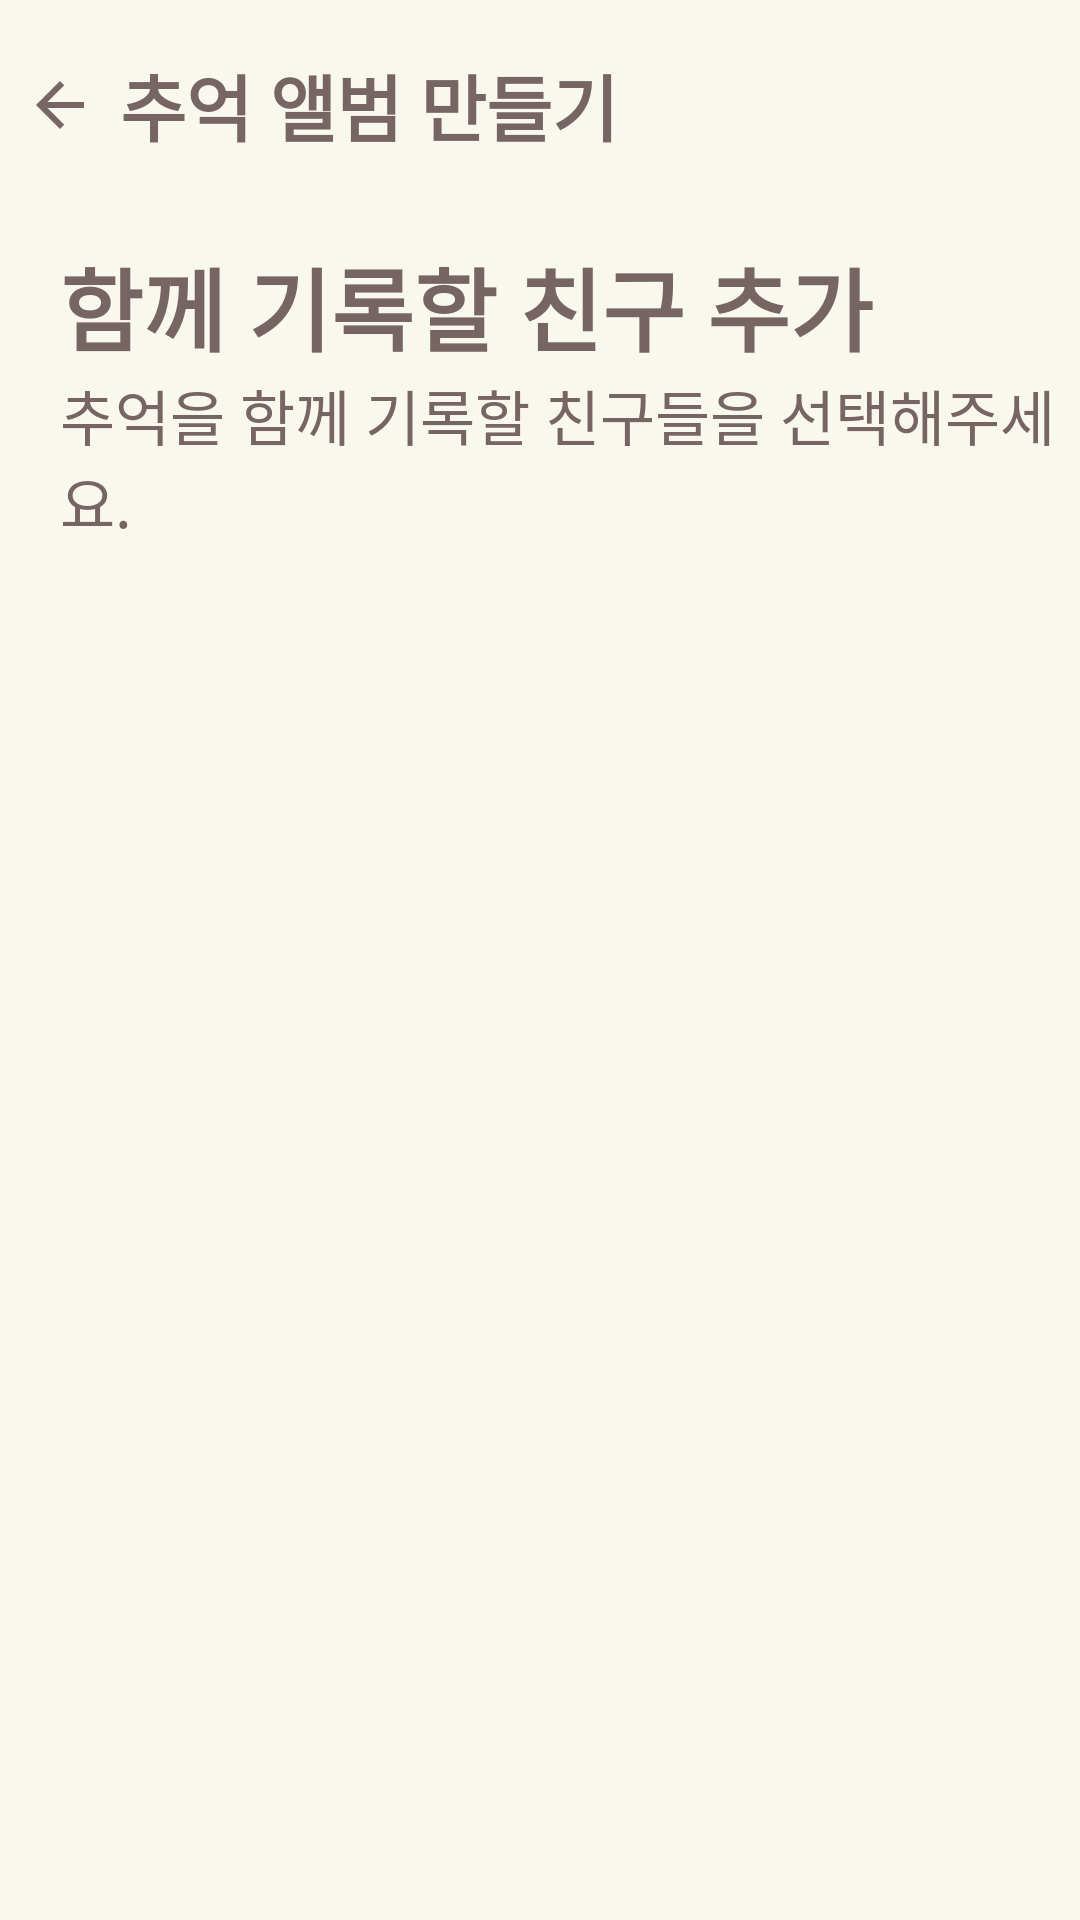

Where icons sit on this 1080px×1920px app screen, as (x1, y1, x2, y2):
arrow back: (36, 81, 84, 129)
